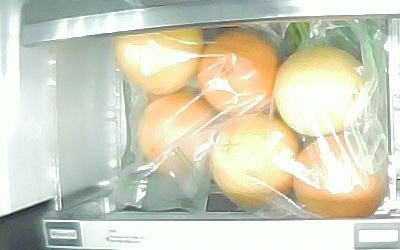grapefruit_vinyl: (211, 112, 301, 207), (275, 45, 365, 137), (292, 135, 385, 218), (139, 95, 214, 181), (200, 30, 278, 112), (113, 25, 203, 95)
